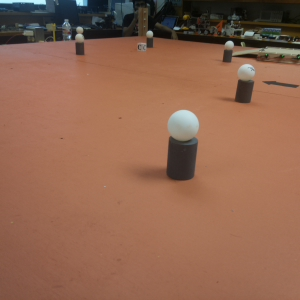obstacle: (167, 109, 198, 177), (235, 65, 254, 103), (74, 32, 85, 56), (223, 41, 234, 64), (144, 31, 154, 48)
side: (258, 50, 298, 62)
slope: (236, 48, 258, 59)
